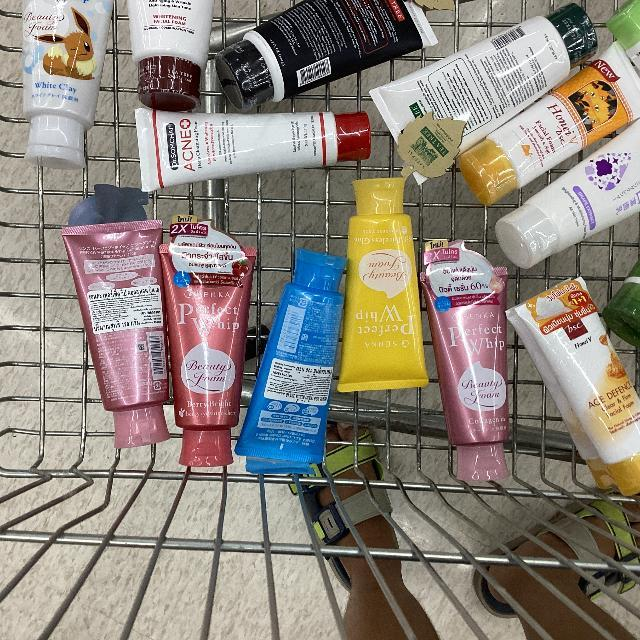Squeeze Tube: (11, 3, 640, 489)
